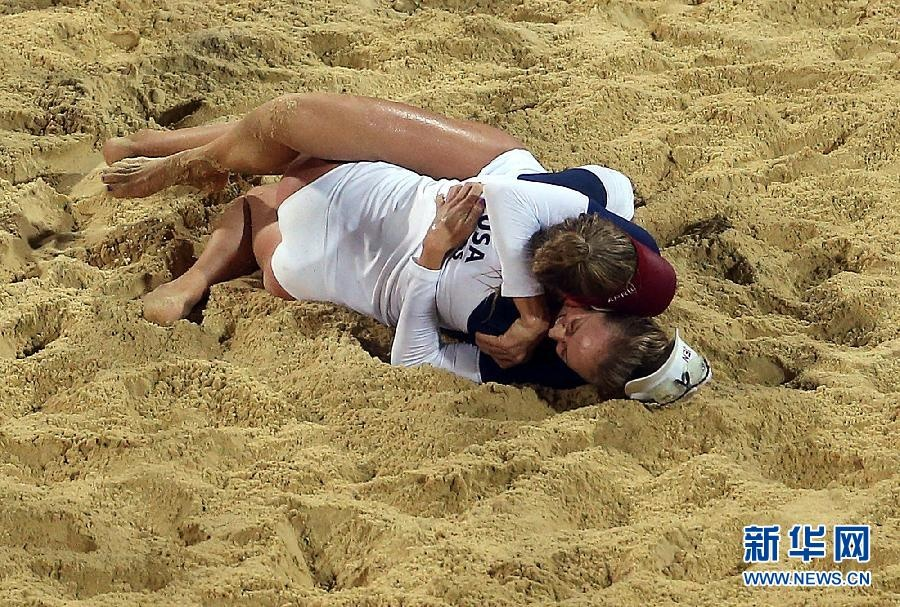falling: (124, 131, 689, 411)
